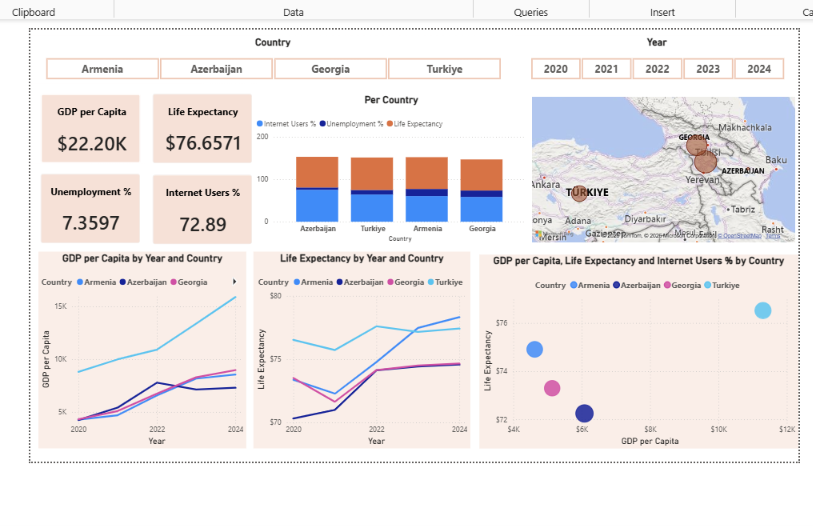

The dashboard page shown, as its layout file describes it:
{"tool":"powerbi","page":{"name":"Page 1","canvas":[1280,720],"ordinal":0},"visuals":[{"type":"slicer","title":"Country","fields":{"Values":["World Bank Country Year.country"]},"box":[0,61.7,808.3,80],"z":0},{"type":"slicer","title":"Year","fields":{"Values":["World Bank Country Year.year"]},"box":[808.3,58.3,471.7,80],"z":1000},{"type":"cardVisual","fields":{"Data":["Key Measure.GDP per Capita"]},"box":[0,141.7,201.7,131.7],"z":2000},{"type":"cardVisual","fields":{"Data":["Key Measure.Life Expectancy"]},"box":[186.7,141.7,200,131.7],"z":3000},{"type":"cardVisual","fields":{"Data":["Key Measure.Unemployment %"]},"box":[0,260,200,130],"z":4000},{"type":"cardVisual","fields":{"Data":["Key Measure.Internet Users %"]},"box":[186.7,260,200,131.7],"z":5000},{"type":"lineChart","fields":{"Y":["Key Measure.GDP per Capita"],"Category":["World Bank Country Year.year"],"Series":["World Bank Country Year.country"]},"box":[13.3,391.7,346.7,306.7],"z":6000},{"type":"lineChart","fields":{"Category":["World Bank Country Year.year"],"Y":["Key Measure.Life Expectancy"],"Series":["World Bank Country Year.country"]},"box":[371.7,391.7,361.7,306.7],"z":7000},{"type":"scatterChart","title":"GDP per Capita vs Life Expectancy (bubble size: Internet Users %)","fields":{"X":["Key Measure.GDP per Capita"],"Y":["Key Measure.Life Expectancy"],"Size":["Key Measure.Internet Users %"],"Series":["World Bank Country Year.country"]},"box":[748.3,391.7,531.7,306.7],"z":8000},{"type":"map","fields":{"Category":["World Bank Country Year.country"],"Size":["Key Measure.Unemployment %"]},"box":[831.7,155,448.3,221.7],"z":9000},{"type":"clusteredBarChart","title":"Per Country","fields":{"Y":["Key Measure.Internet Users %"],"Category":["World Bank Country Year.year"],"Series":["World Bank Country Year.country"]},"box":[371.7,155,460,215],"z":10000},{"type":"textbox","box":[26.7,0,1235,58.3],"z":10001}]}

Visuals, with their boxes on the page's 1280x720 design canvas (x1, y1, x2, y2). These are canvas units, not pixel positions in the 813x526 screenshot, which may show the page scaled, cropped or inside an application window:
"Country" slicer: <region>0, 62, 808, 142</region>
"Year" slicer: <region>808, 58, 1280, 138</region>
cardVisual - Key Measure.GDP per Capita: <region>0, 142, 202, 273</region>
cardVisual - Key Measure.Life Expectancy: <region>187, 142, 387, 273</region>
cardVisual - Key Measure.Unemployment %: <region>0, 260, 200, 390</region>
cardVisual - Key Measure.Internet Users %: <region>187, 260, 387, 392</region>
lineChart - Key Measure.GDP per Capita x World Bank Country Year.year: <region>13, 392, 360, 698</region>
lineChart - World Bank Country Year.year x Key Measure.Life Expectancy: <region>372, 392, 733, 698</region>
"GDP per Capita vs Life Expectancy (bubble size: Internet Users %)" scatterChart: <region>748, 392, 1280, 698</region>
map - World Bank Country Year.country x Key Measure.Unemployment %: <region>832, 155, 1280, 377</region>
"Per Country" clusteredBarChart: <region>372, 155, 832, 370</region>
textbox: <region>27, 0, 1262, 58</region>
